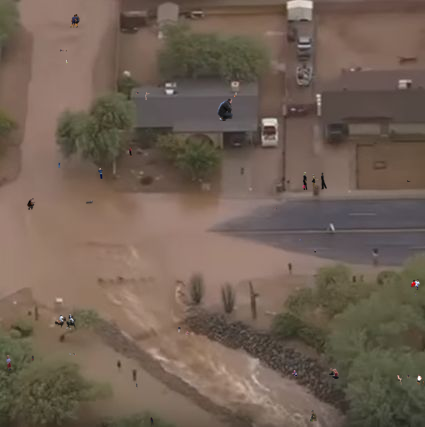Human: (6, 355, 40, 371), (27, 198, 65, 210), (302, 172, 327, 190), (217, 98, 236, 121), (397, 374, 424, 388), (54, 314, 77, 330), (410, 279, 420, 296), (70, 14, 80, 28), (136, 90, 150, 100), (308, 410, 317, 424), (329, 368, 339, 379), (178, 326, 190, 335), (132, 368, 137, 380), (98, 168, 103, 179), (149, 417, 154, 427), (85, 200, 93, 205), (117, 360, 121, 370), (292, 370, 298, 376), (69, 352, 77, 356), (129, 147, 132, 157), (59, 49, 67, 52), (273, 206, 277, 211), (58, 162, 61, 168), (407, 178, 411, 182), (313, 249, 316, 254), (234, 92, 237, 97), (136, 383, 138, 390), (66, 59, 68, 64), (299, 239, 302, 242)
